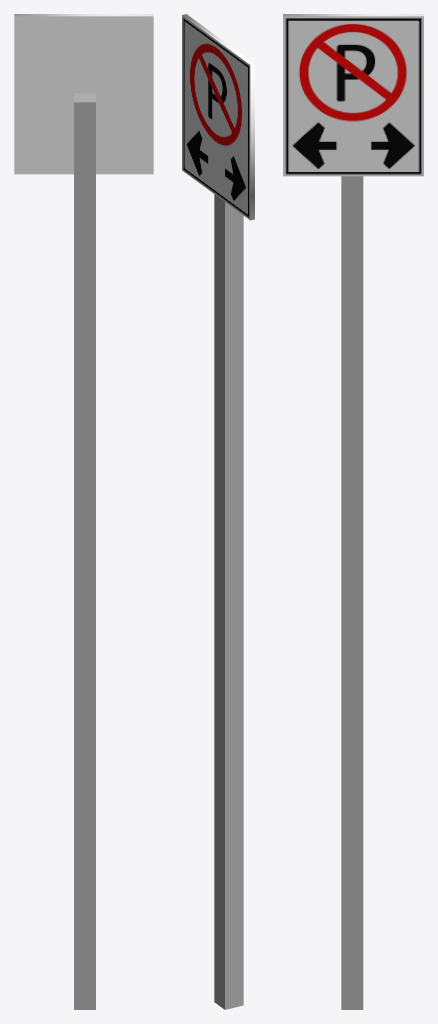
Rendered from sign1.fbx.
3 renders of one model, left to right at view 1: azimuth 90°, elevation 25°; view 2: azimuth 210°, elevation 25°; view 3: azimuth 270°, elevation 25°, orthographic. The views are drawn at different scales.
Parts seen in each view (by area): view 1: Cylinder.000_Cylinder.004; view 2: Cylinder.000_Cylinder.004; view 3: Cylinder.000_Cylinder.004.
Boxes of the visible parts, bbox=[...] form: Cylinder.000_Cylinder.004: bbox=[14, 14, 153, 1009]; Cylinder.000_Cylinder.004: bbox=[182, 14, 254, 1009]; Cylinder.000_Cylinder.004: bbox=[283, 14, 423, 1009].
Bounding box in the file's own units: 9.16 × 377 × 48.3.
